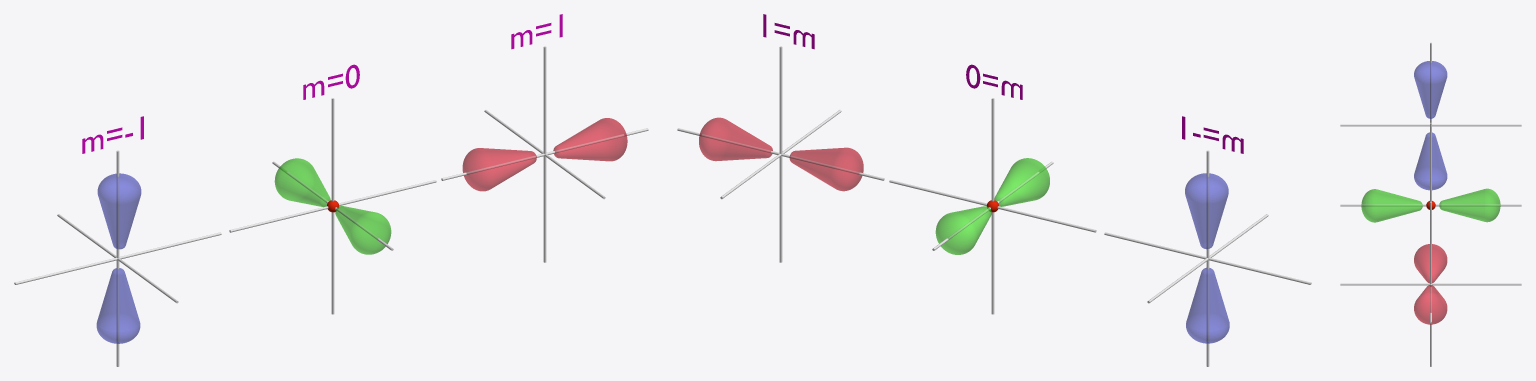
The model's file is orbital_p.glb.
3 views of the same model, side by side, from view 1: azimuth 30°, elevation 25°; view 2: azimuth 150°, elevation 25°; view 3: azimuth 270°, elevation 25° (orthographic). The views are drawn at different scales.
Visible parts, largest first — view 1: suborbital p.003, suborbital p.002, suborbital p, suborbital p.001, suborbital p.004, suborbital p.005, Cylinder.006, Cylinder.003, Cylinder, Cylinder.005, Cylinder.008, Cylinder.002; view 2: suborbital p.002, suborbital p.003, suborbital p.001, suborbital p, suborbital p.004, suborbital p.005, Cylinder.003, Cylinder.006, Cylinder, Cylinder.005, Cylinder.008, Cylinder.002; view 3: suborbital p.004, suborbital p.005, suborbital p.003, suborbital p.002, suborbital p, suborbital p.001, Cylinder.004, Cylinder.007, Cylinder.001, Cylinder.006, Cylinder.003.
Part boxes in pixels (x1,y1,x2,y2): suborbital p.003: [97, 173, 141, 249]; suborbital p.002: [96, 268, 140, 343]; suborbital p: [553, 118, 627, 161]; suborbital p.001: [462, 148, 536, 191]; suborbital p.004: [274, 158, 330, 207]; suborbital p.005: [335, 206, 391, 254]; Cylinder.006: [543, 46, 546, 262]; Cylinder.003: [116, 150, 119, 366]; Cylinder: [331, 98, 334, 314]; Cylinder.005: [14, 232, 221, 284]; Cylinder.008: [441, 128, 648, 180]; Cylinder.002: [229, 180, 436, 232]; suborbital p.002: [1186, 267, 1229, 343]; suborbital p.003: [1185, 173, 1228, 249]; suborbital p.001: [789, 147, 863, 191]; suborbital p: [699, 117, 772, 161]; suborbital p.004: [935, 206, 991, 254]; suborbital p.005: [994, 158, 1049, 206]; Cylinder.003: [1206, 150, 1209, 366]; Cylinder.006: [779, 46, 782, 262]; Cylinder: [991, 98, 994, 314]; Cylinder.005: [1104, 232, 1311, 284]; Cylinder.008: [677, 128, 884, 180]; Cylinder.002: [889, 180, 1096, 232]; suborbital p.004: [1439, 188, 1500, 222]; suborbital p.005: [1361, 189, 1422, 222]; suborbital p.003: [1414, 61, 1447, 118]; suborbital p.002: [1414, 132, 1447, 190]; suborbital p: [1414, 285, 1447, 324]; suborbital p.001: [1414, 244, 1447, 283]; Cylinder.004: [1340, 124, 1521, 126]; Cylinder.007: [1340, 283, 1521, 285]; Cylinder.001: [1340, 204, 1521, 206]; Cylinder.006: [1430, 201, 1431, 366]; Cylinder.003: [1430, 42, 1431, 122].
Bounding box in the file's own units: 19.73 × 7.28 × 6.42.
